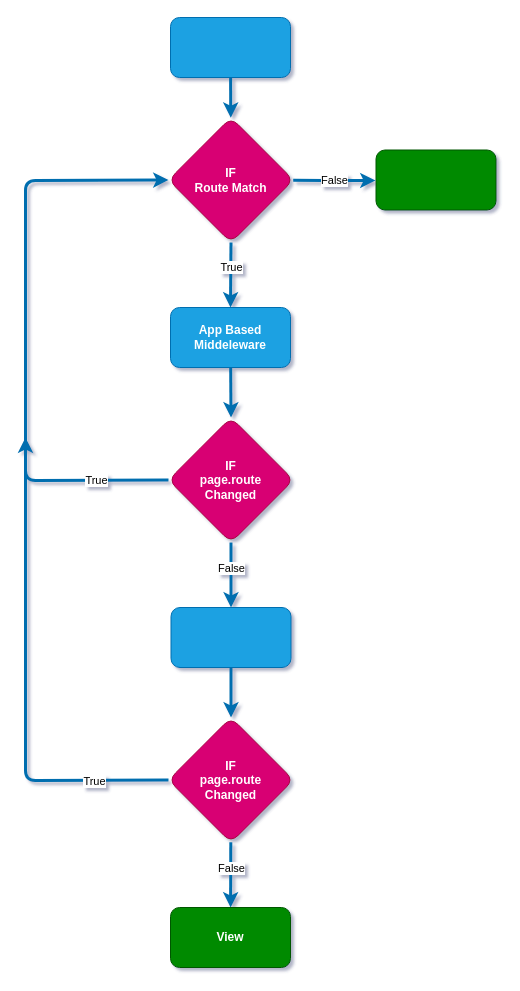
Image size: 520x991. Some labels were removed from this diagram. Here are the shapes that lost their labels. From the top down, the centre of each, then its label:
At (230,47): "Start page.go()".
At (435,179): "Not Found View".
At (230,637): "URL Based Middeleware".
